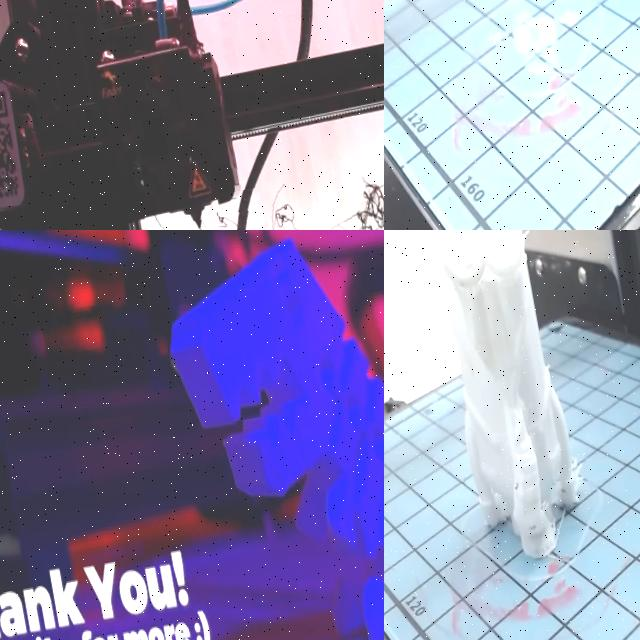spaghetti: (109, 140, 384, 230)
